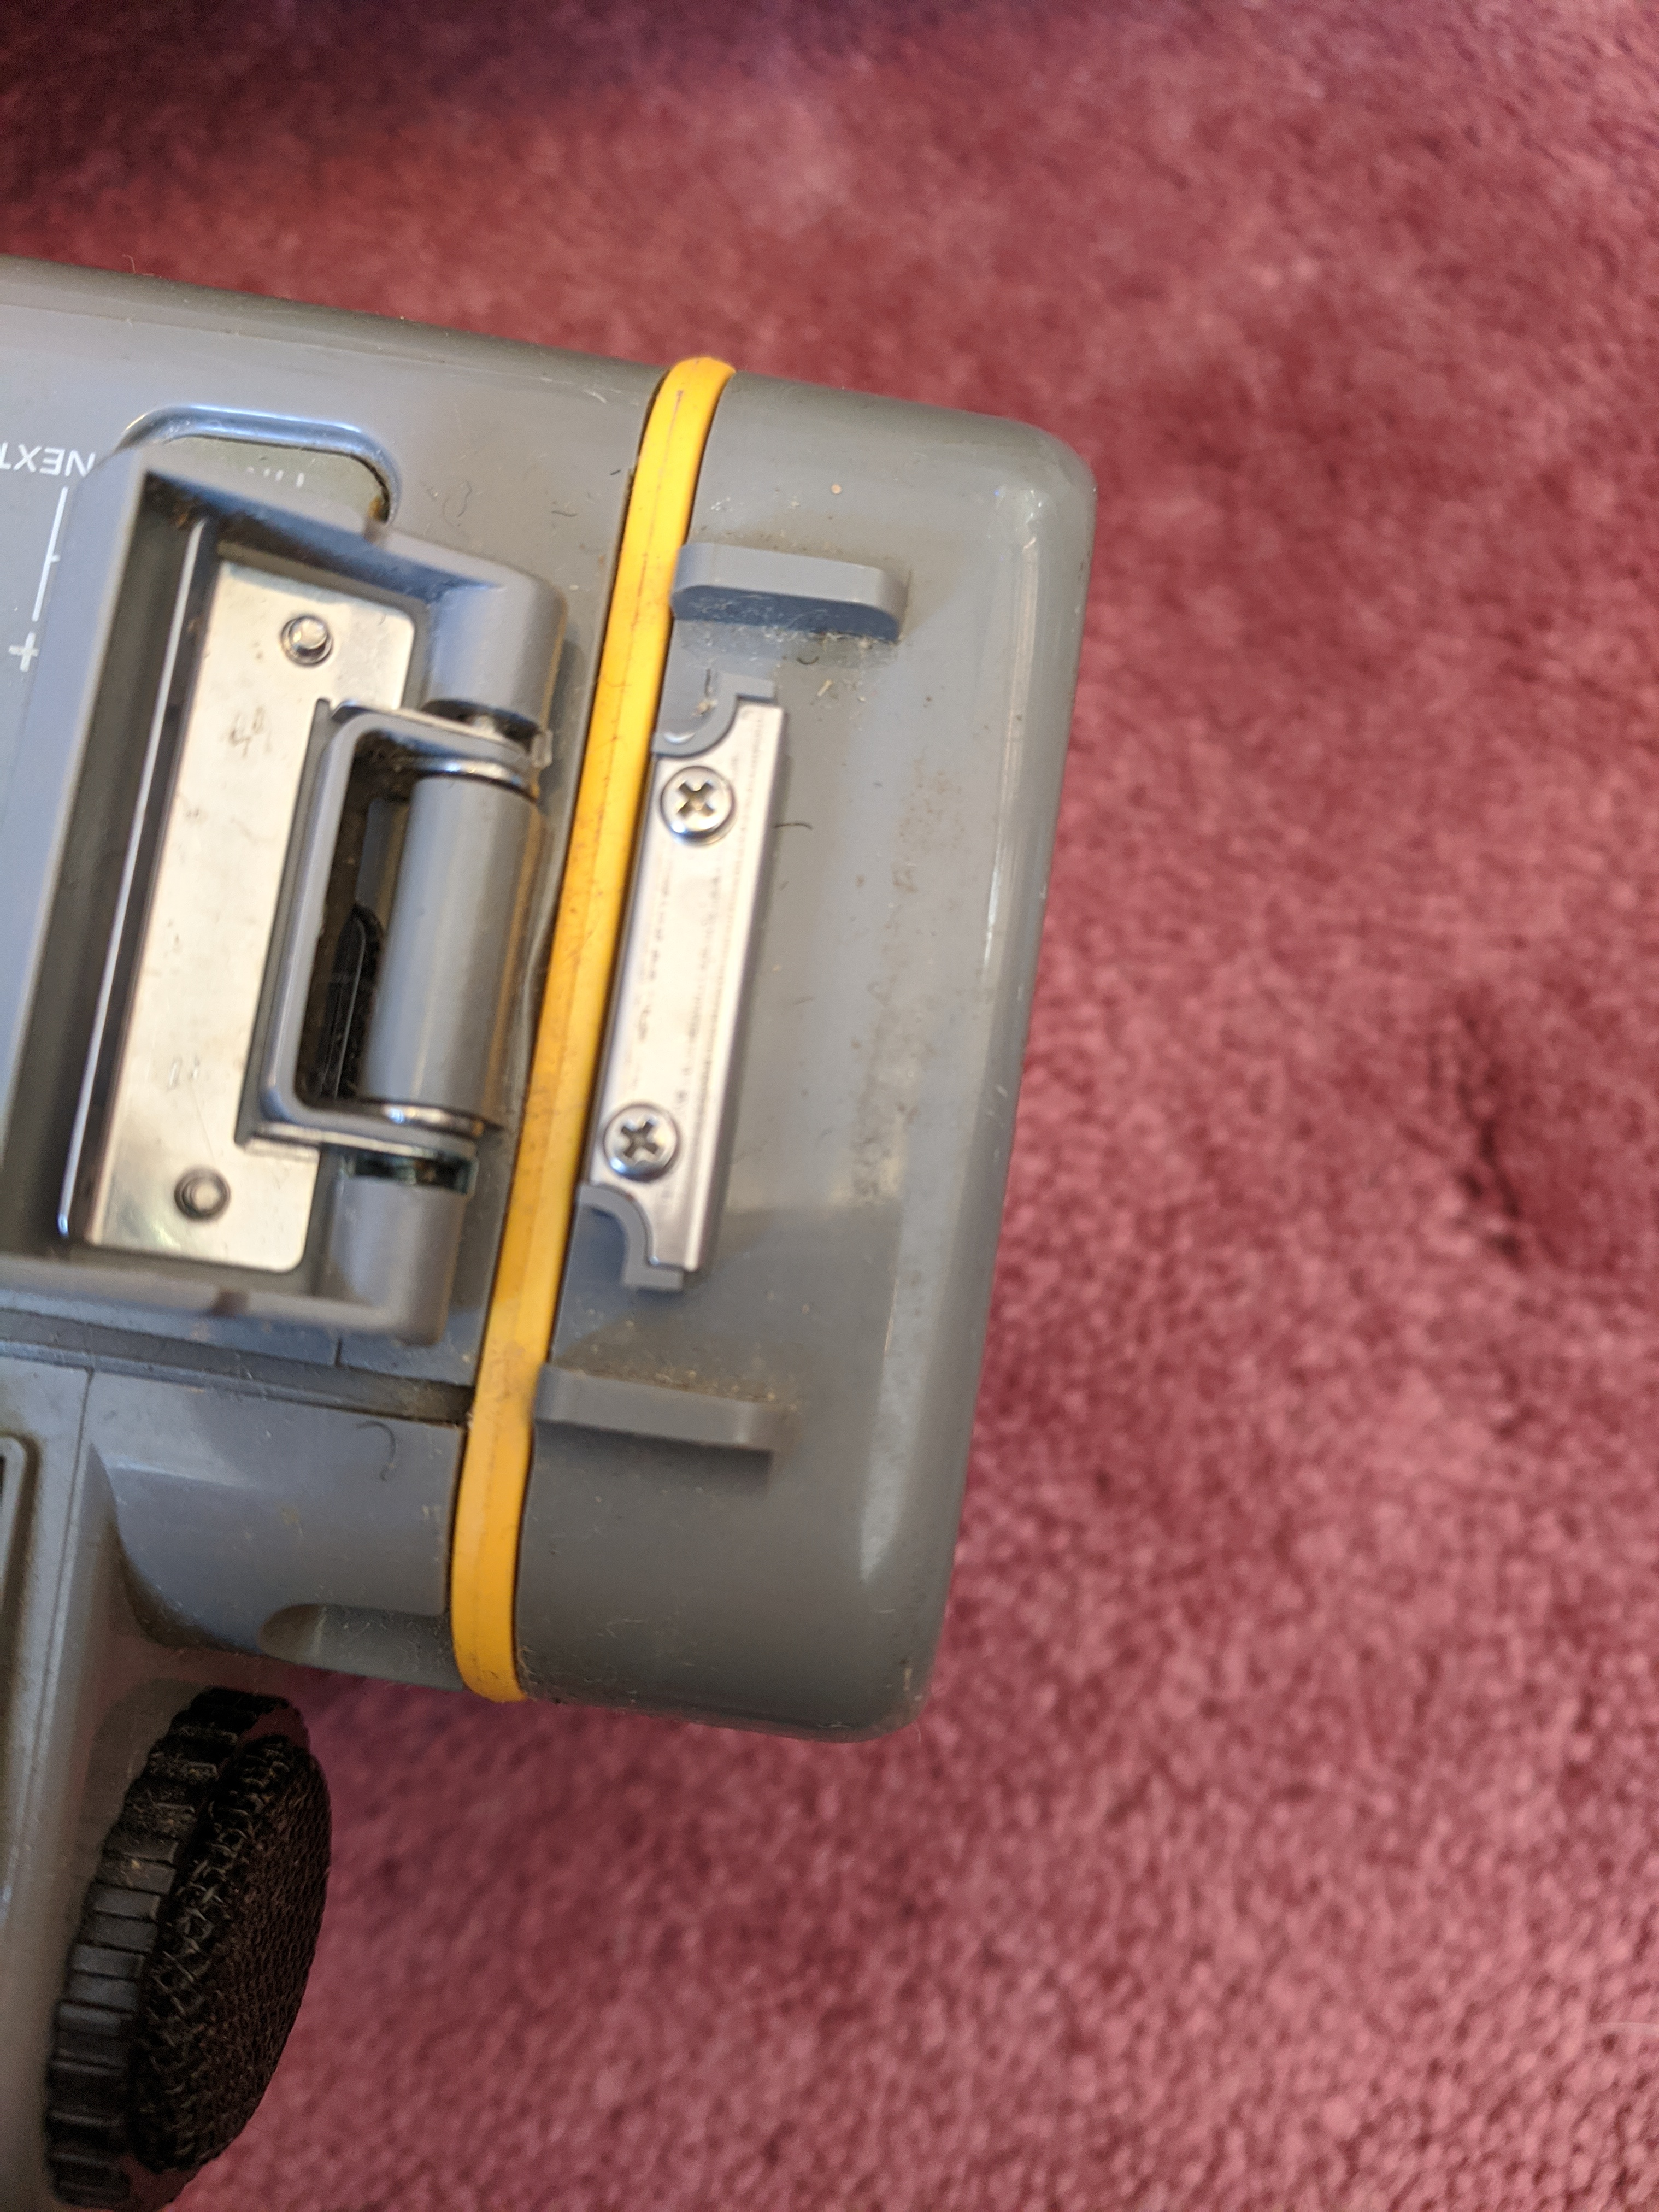cross_recessed_screw: (974, 524, 1110, 651), (274, 1371, 397, 1503)
